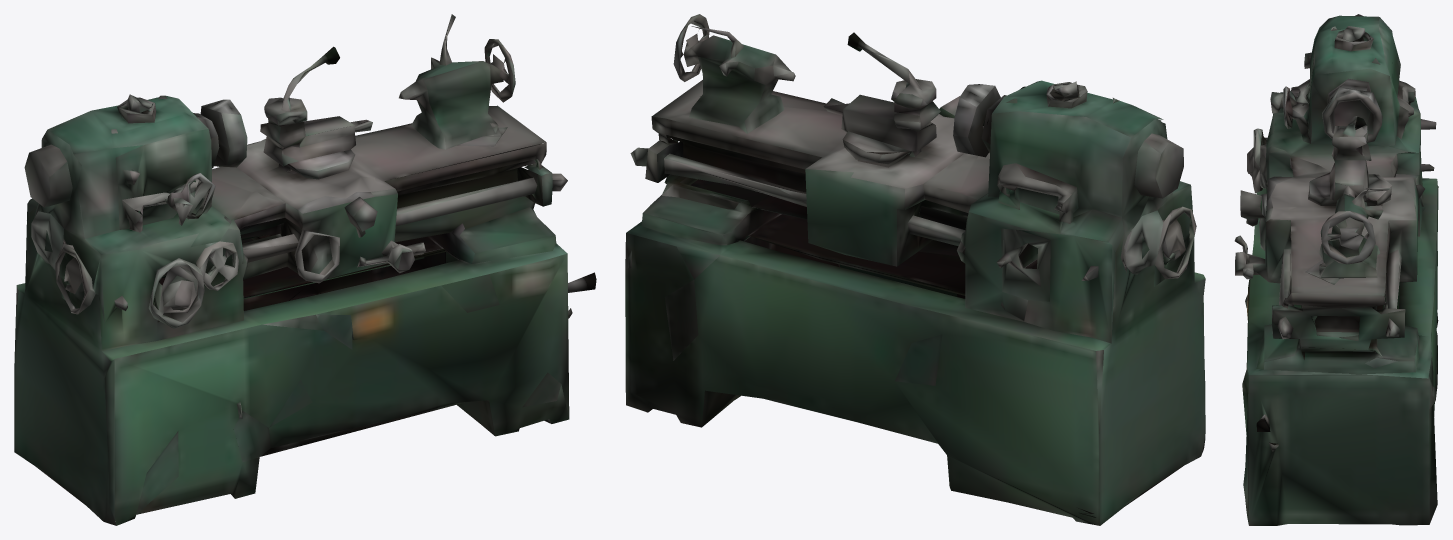
The model's file is torno_motor.movil.glb.
3 views of the same model, side by side, from view 1: azimuth 30°, elevation 25°; view 2: azimuth 150°, elevation 25°; view 3: azimuth 270°, elevation 25° (orthographic). The views are drawn at different scales.
Parts seen in each view (by area): view 1: geometry_0; view 2: geometry_0; view 3: geometry_0.
Boxes of the visible parts, box(x1,y1,x2,y2) form: geometry_0: box(14, 14, 596, 525); geometry_0: box(625, 14, 1205, 525); geometry_0: box(1234, 14, 1438, 525).
Bounding box in the file's own units: 1.79 × 1.25 × 0.6916.
1 material, 1 textured.
